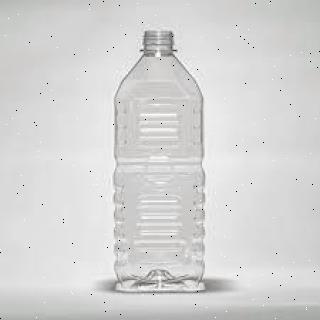Plastic-bottle: (111, 28, 210, 294)
